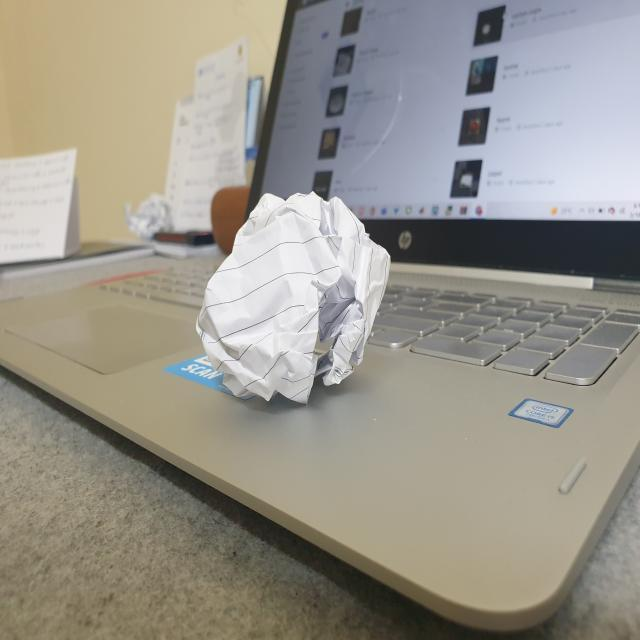Paper: (195, 193, 394, 403)
